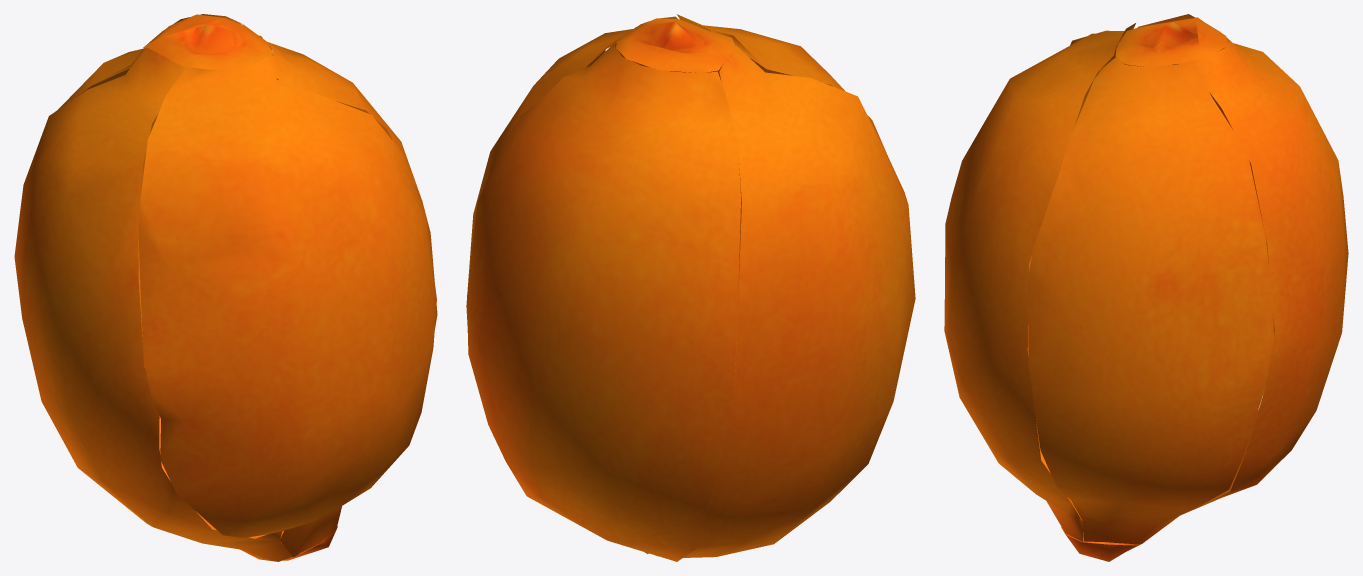
The model's file is orange.glb.
The picture shows the model from 3 angles, left to right: view 1: azimuth 30°, elevation 25°; view 2: azimuth 150°, elevation 25°; view 3: azimuth 270°, elevation 25°; orthographic projection. The views are drawn at different scales.
Visible parts, largest first — view 1: lemon; view 2: lemon; view 3: lemon.
Boxes of the visible parts, x1=… form: lemon: x1=14, y1=14, x2=437, y2=561; lemon: x1=466, y1=14, x2=915, y2=561; lemon: x1=944, y1=14, x2=1348, y2=561.
Size of the model in its own units: 0.0689 by 0.0958 by 0.0683.
1 material, 1 textured.
